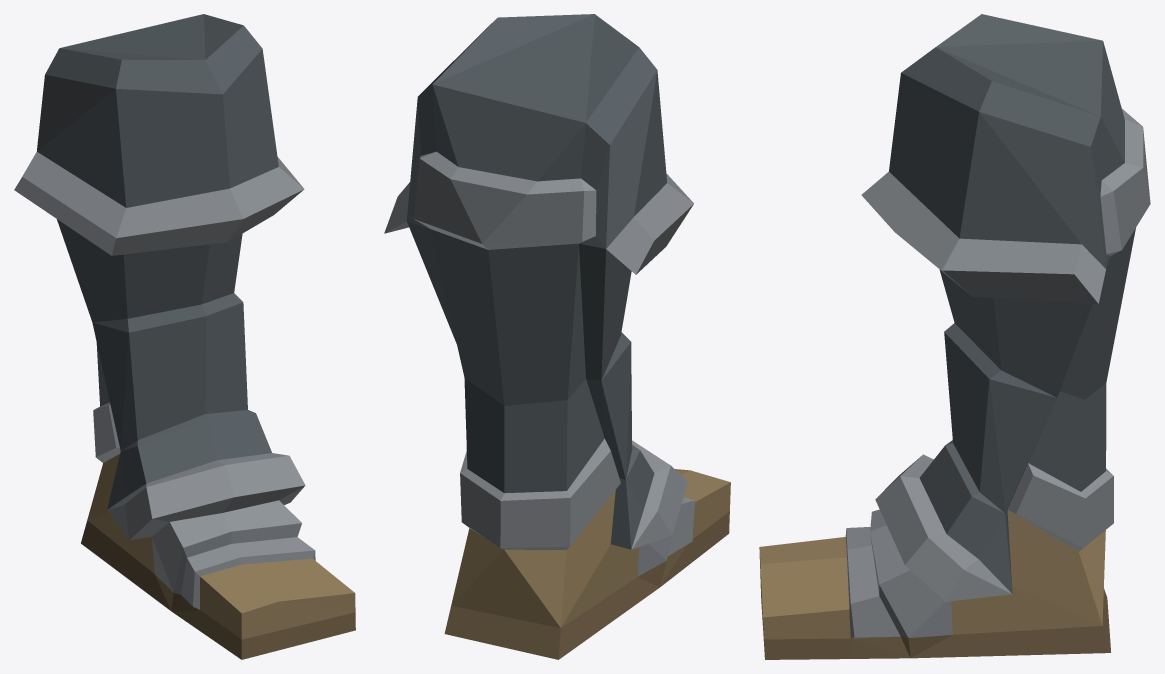
The model's file is Chr_LegRight_Male_06_Static.fbx.
The picture shows the model from 3 angles, left to right: view 1: azimuth 30°, elevation 25°; view 2: azimuth 150°, elevation 25°; view 3: azimuth 270°, elevation 25°; orthographic projection. The views are drawn at different scales.
Parts seen in each view (by area): view 1: Chr_LegRight_Male_06_Static; view 2: Chr_LegRight_Male_06_Static; view 3: Chr_LegRight_Male_06_Static.
Boxes of the visible parts, x1,y1,x2,y2 form: Chr_LegRight_Male_06_Static: [14, 14, 355, 659]; Chr_LegRight_Male_06_Static: [384, 14, 730, 659]; Chr_LegRight_Male_06_Static: [759, 14, 1150, 659].
Size of the model in its own units: 0.1914 by 0.4048 by 0.2496.
